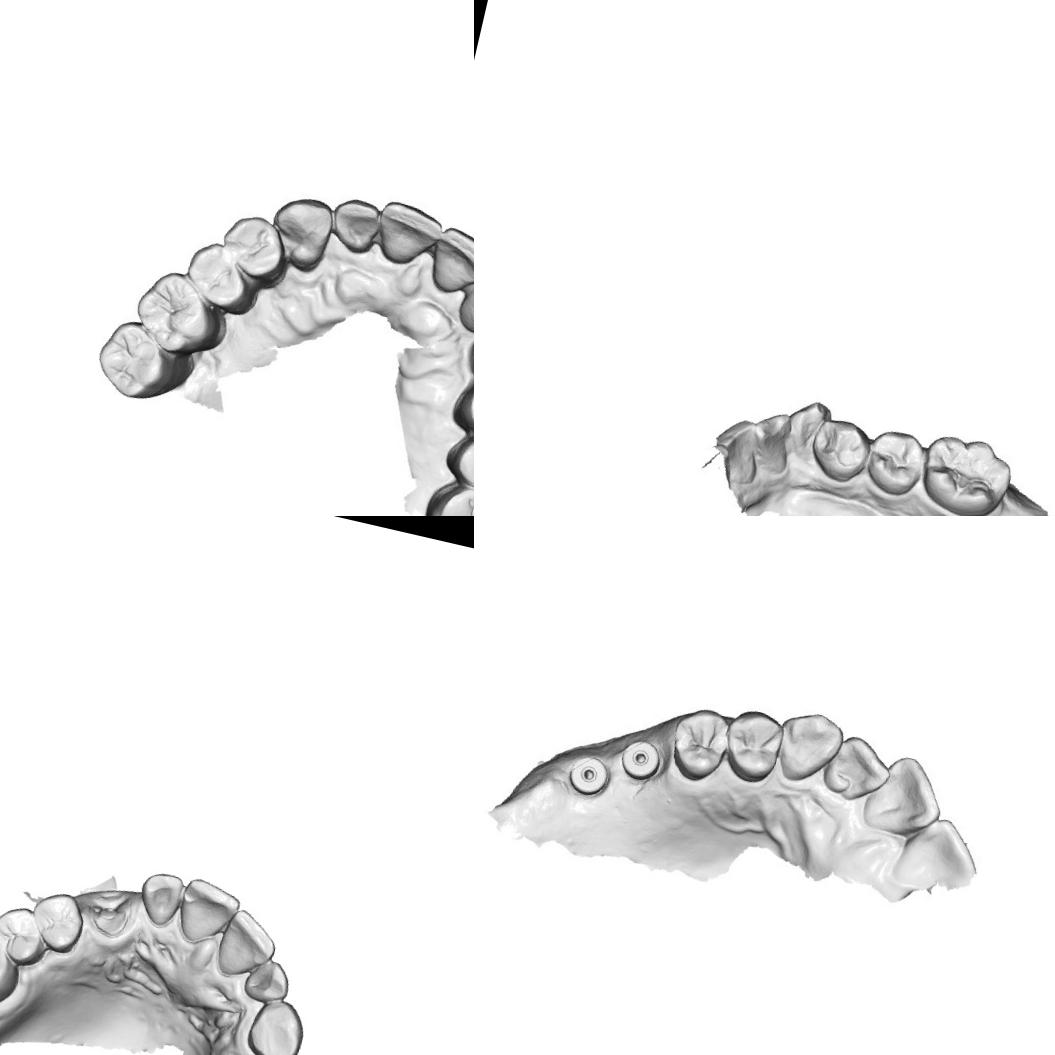canine: (770, 704, 848, 793), (266, 192, 338, 282), (243, 994, 312, 1055), (780, 394, 832, 468)
implant: (614, 732, 672, 790), (562, 746, 617, 803)
incisor: (882, 808, 986, 903), (858, 747, 950, 844), (369, 196, 450, 280), (820, 730, 898, 806), (212, 904, 285, 984), (172, 873, 244, 952), (706, 408, 770, 490), (321, 192, 391, 262), (742, 408, 800, 478), (132, 865, 188, 931), (426, 225, 474, 300), (241, 955, 297, 1006), (451, 264, 474, 344)
molar: (88, 311, 210, 418), (127, 262, 238, 364), (919, 432, 1014, 516), (0, 910, 32, 1018), (413, 473, 474, 516)
premolar: (176, 234, 271, 328), (206, 205, 300, 300), (662, 700, 736, 790), (717, 704, 791, 788), (865, 422, 931, 498), (24, 886, 92, 958), (806, 418, 872, 484), (0, 901, 53, 969), (438, 425, 474, 499), (445, 365, 474, 449)
